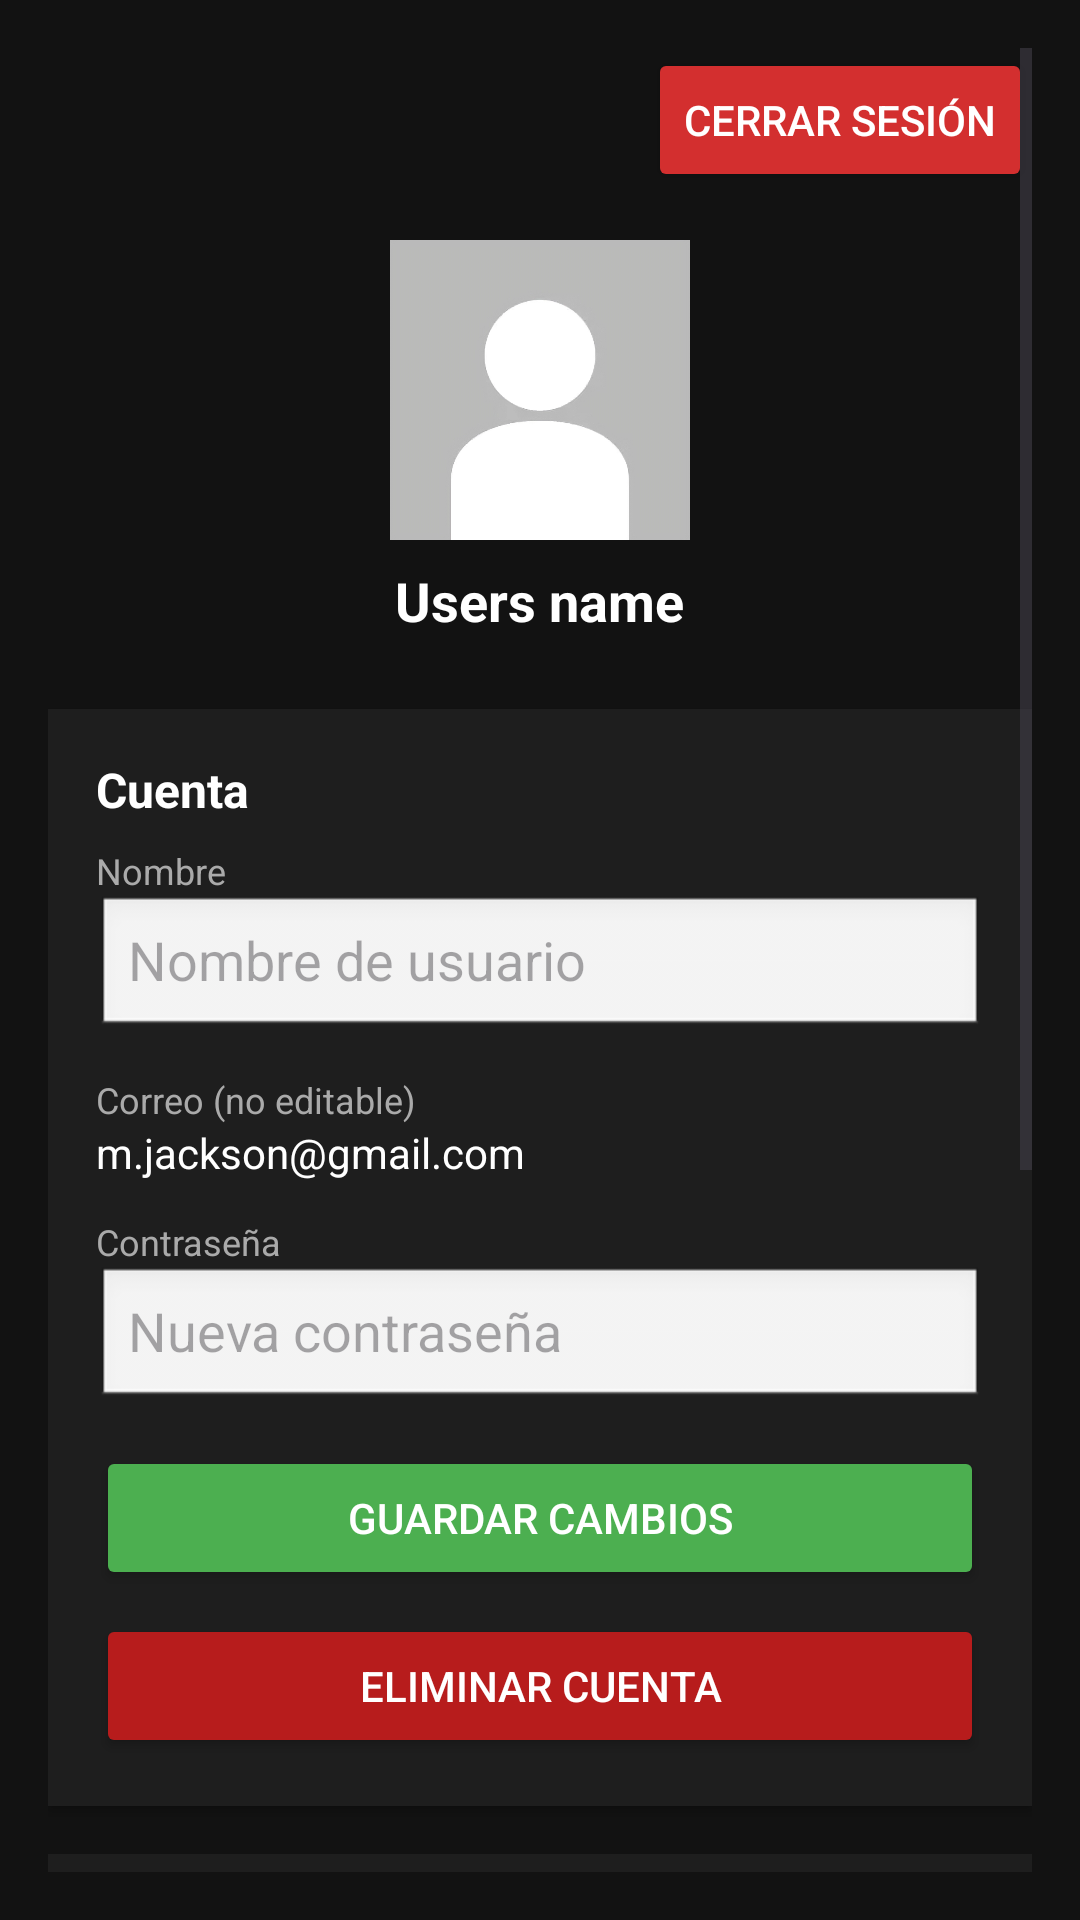

Icons on this 1080px×1920px Android screen, each with its box as (x1, y1, x2, y2):
Foto de perfil: (390, 240, 690, 540)
